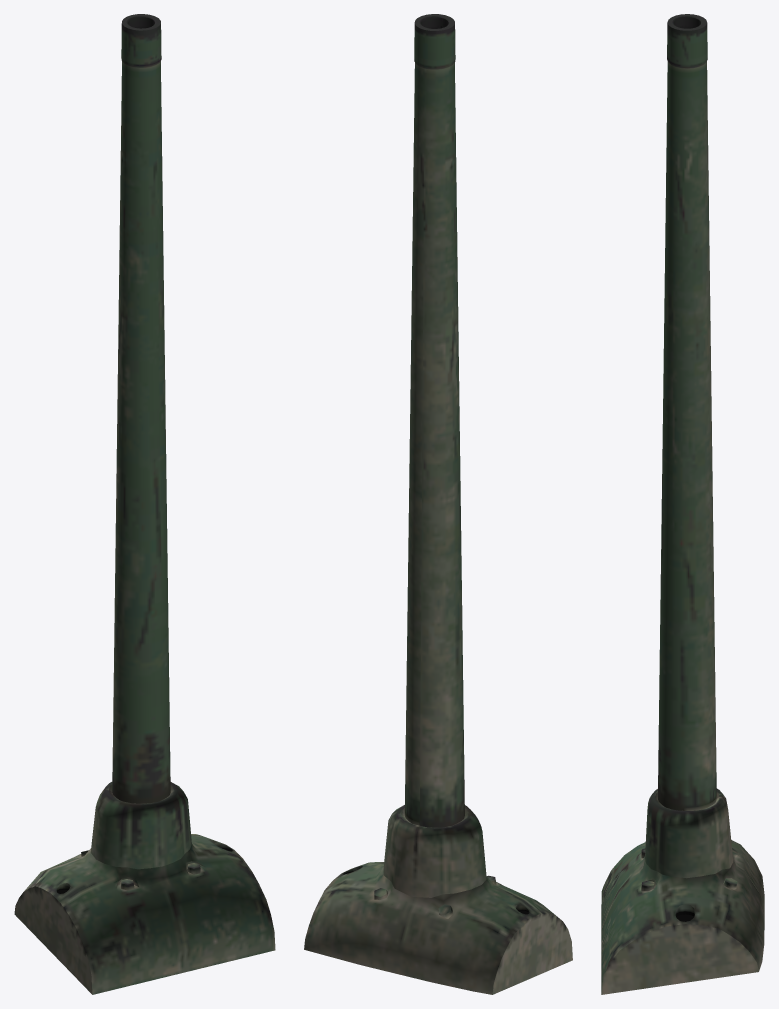
File: Gun_02.glb
3 views of the same model, side by side, from view 1: azimuth 30°, elevation 25°; view 2: azimuth 150°, elevation 25°; view 3: azimuth 270°, elevation 25° (orthographic). The views are drawn at different scales.
Parts seen in each view (by area): view 1: set_0_group_0; view 2: set_0_group_0; view 3: set_0_group_0.
Boxes of the visible parts, x1,y1,x2,y2 form: set_0_group_0: (14, 14, 275, 994); set_0_group_0: (304, 14, 572, 994); set_0_group_0: (601, 14, 764, 994).
Bounding box in the file's own units: 0.6636 × 3.17 × 0.5055.
1 material, 1 textured.
